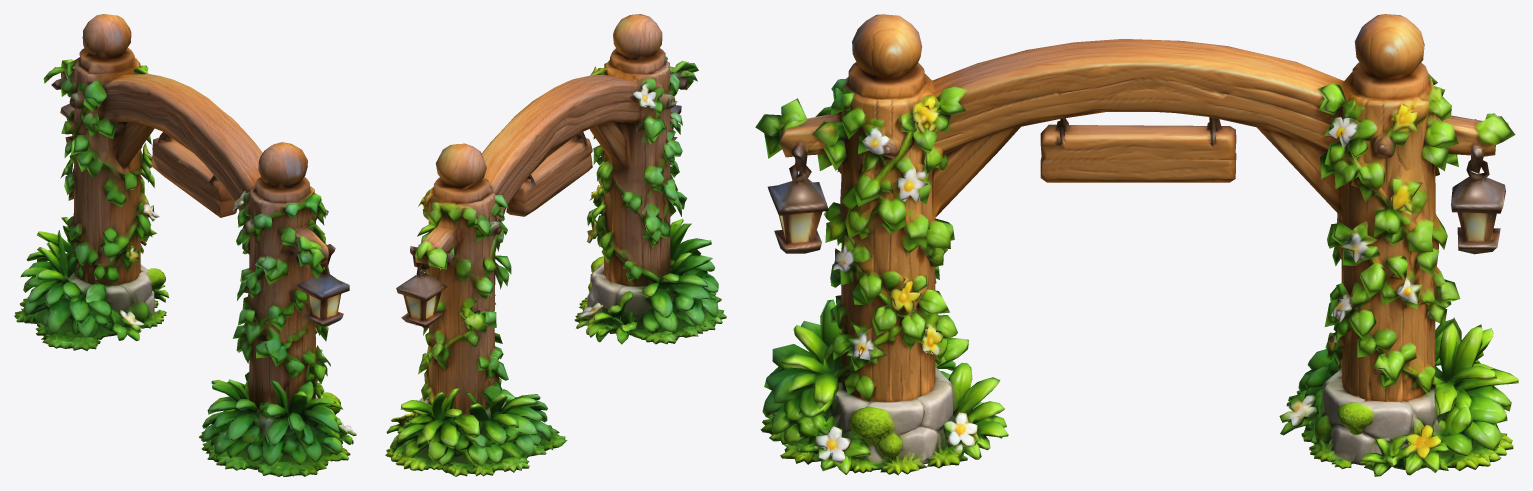
File: Kit_M_MeadowArch_HD_src.glb
3 renders of one model, left to right at view 1: azimuth 30°, elevation 25°; view 2: azimuth 150°, elevation 25°; view 3: azimuth 270°, elevation 25°, orthographic. The views are drawn at different scales.
Parts seen in each view (by area): view 1: tripo_node_5d225abb-fdf1-4f87-bc88-226e98d88f26; view 2: tripo_node_5d225abb-fdf1-4f87-bc88-226e98d88f26; view 3: tripo_node_5d225abb-fdf1-4f87-bc88-226e98d88f26.
Boxes of the visible parts, <box> form: tripo_node_5d225abb-fdf1-4f87-bc88-226e98d88f26: <box>14,14,356,476</box>; tripo_node_5d225abb-fdf1-4f87-bc88-226e98d88f26: <box>385,14,726,476</box>; tripo_node_5d225abb-fdf1-4f87-bc88-226e98d88f26: <box>755,14,1518,476</box>.
Bounding box in the file's own units: 0.3037 × 0.6015 × 0.9837.
1 material, 1 textured.
